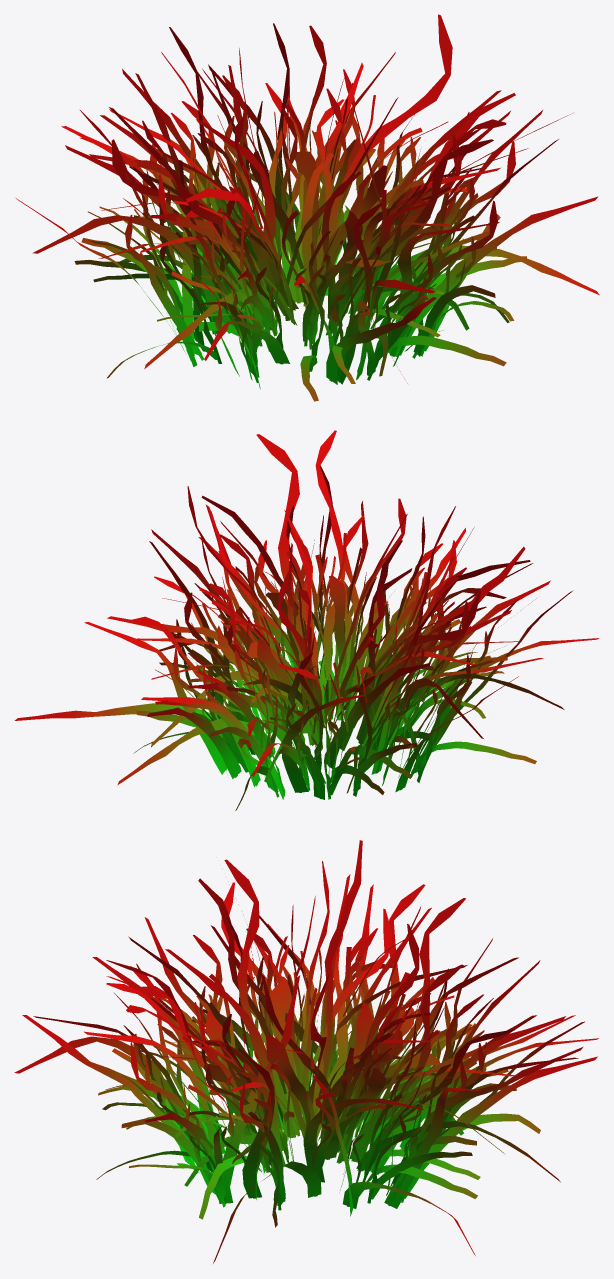
Rendered from slBm1_Var5_LOD0.fbx.
3 renders of one model, top to bottom at view 1: azimuth 30°, elevation 25°; view 2: azimuth 150°, elevation 25°; view 3: azimuth 270°, elevation 25°, orthographic. The views are drawn at different scales.
Visible parts, largest first — view 1: _f221_Var5_LOD0; view 2: _f221_Var5_LOD0; view 3: _f221_Var5_LOD0.
Part boxes in pixels (<box>): _f221_Var5_LOD0: <box>16,14,599,401</box>; _f221_Var5_LOD0: <box>14,430,599,810</box>; _f221_Var5_LOD0: <box>14,840,598,1263</box>.
Bounding box in the file's own units: 27.9 × 15.26 × 28.66.
